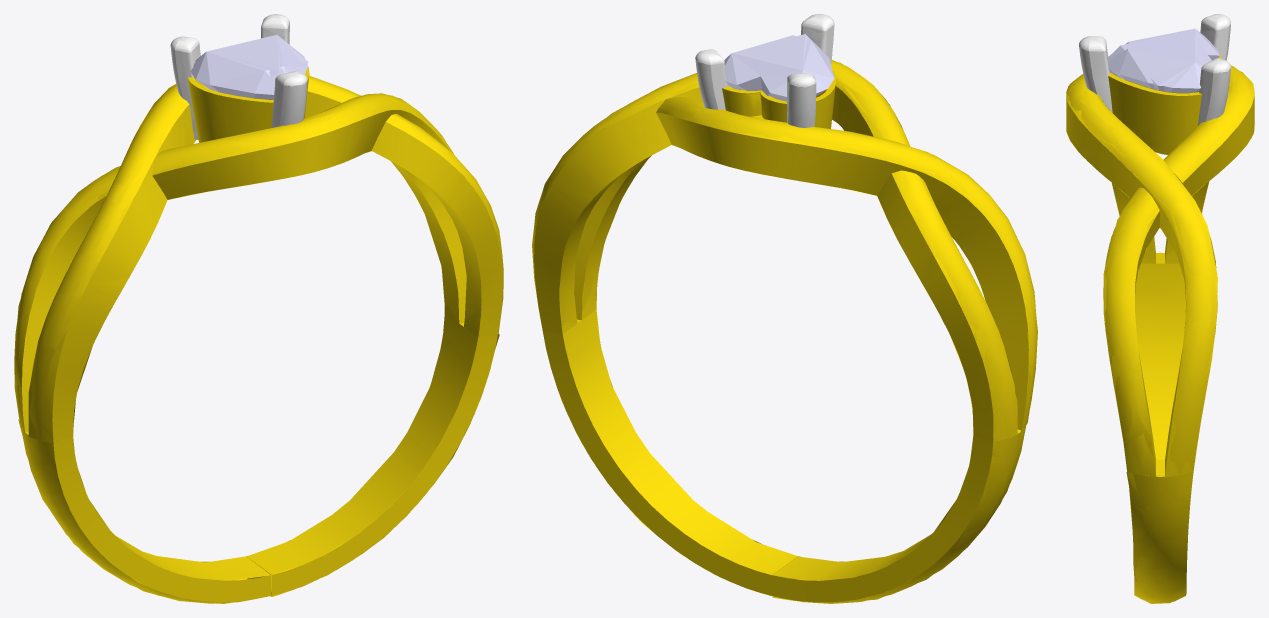
The model's file is DLR-D000679265.glb.
The picture shows the model from 3 angles, left to right: view 1: azimuth 30°, elevation 25°; view 2: azimuth 150°, elevation 25°; view 3: azimuth 270°, elevation 25°; orthographic projection. The views are drawn at different scales.
Visible parts, largest first — view 1: highPolyMesh, lowPolyMesh; view 2: highPolyMesh, lowPolyMesh; view 3: highPolyMesh, lowPolyMesh.
Part boxes in pixels (<box>): highPolyMesh: <box>14,14,503,603</box>; lowPolyMesh: <box>14,14,503,603</box>; highPolyMesh: <box>532,14,1037,603</box>; lowPolyMesh: <box>532,14,1037,602</box>; highPolyMesh: <box>1066,14,1254,603</box>; lowPolyMesh: <box>1066,14,1254,603</box>.
Bounding box in the file's own units: 0.0191 × 0.0211 × 0.00668.
